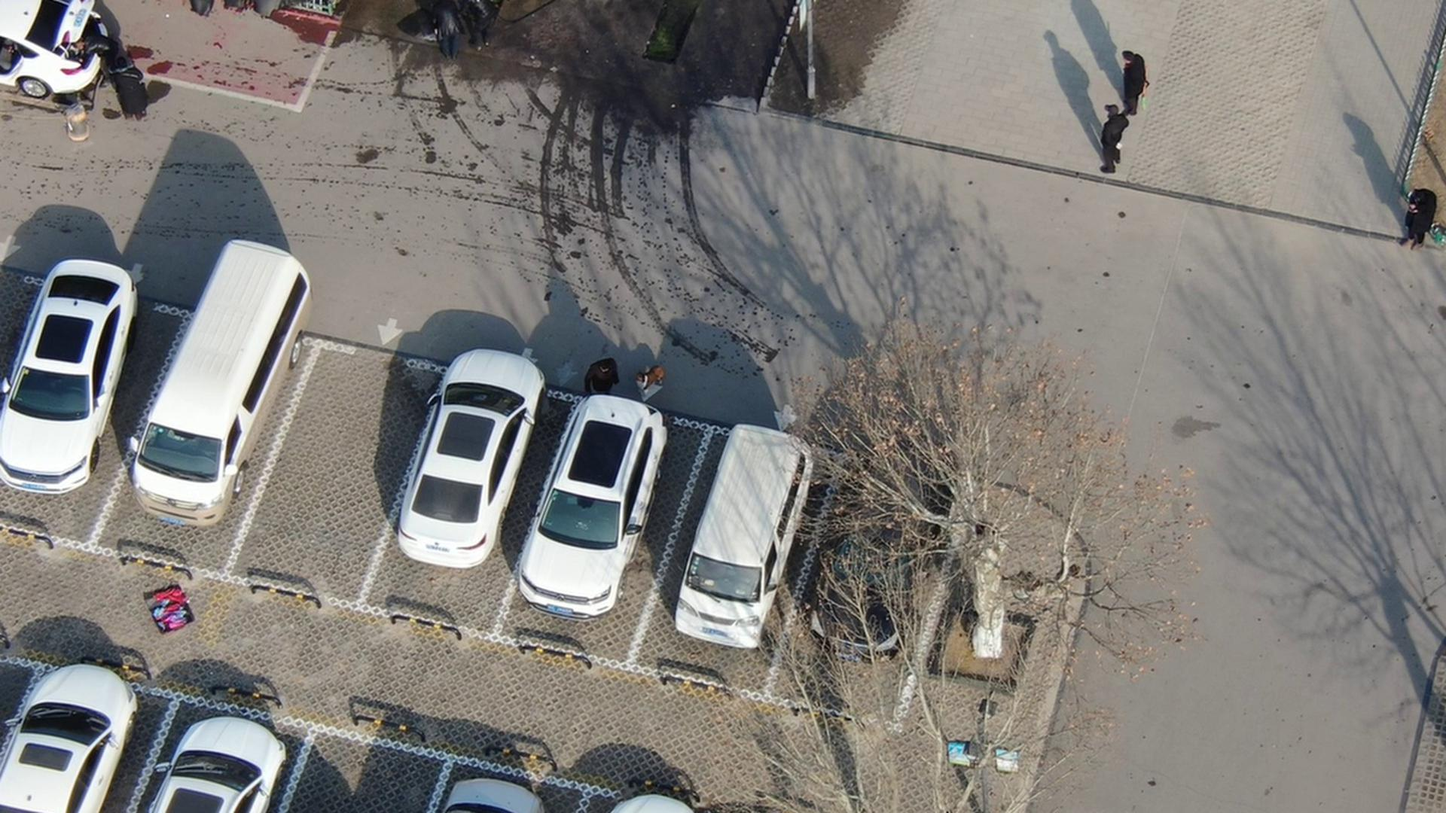human: (74, 21, 124, 87), (1088, 98, 1128, 179), (1115, 43, 1149, 109), (426, 1, 464, 59), (120, 48, 152, 116), (462, 1, 501, 47), (582, 354, 618, 398)
